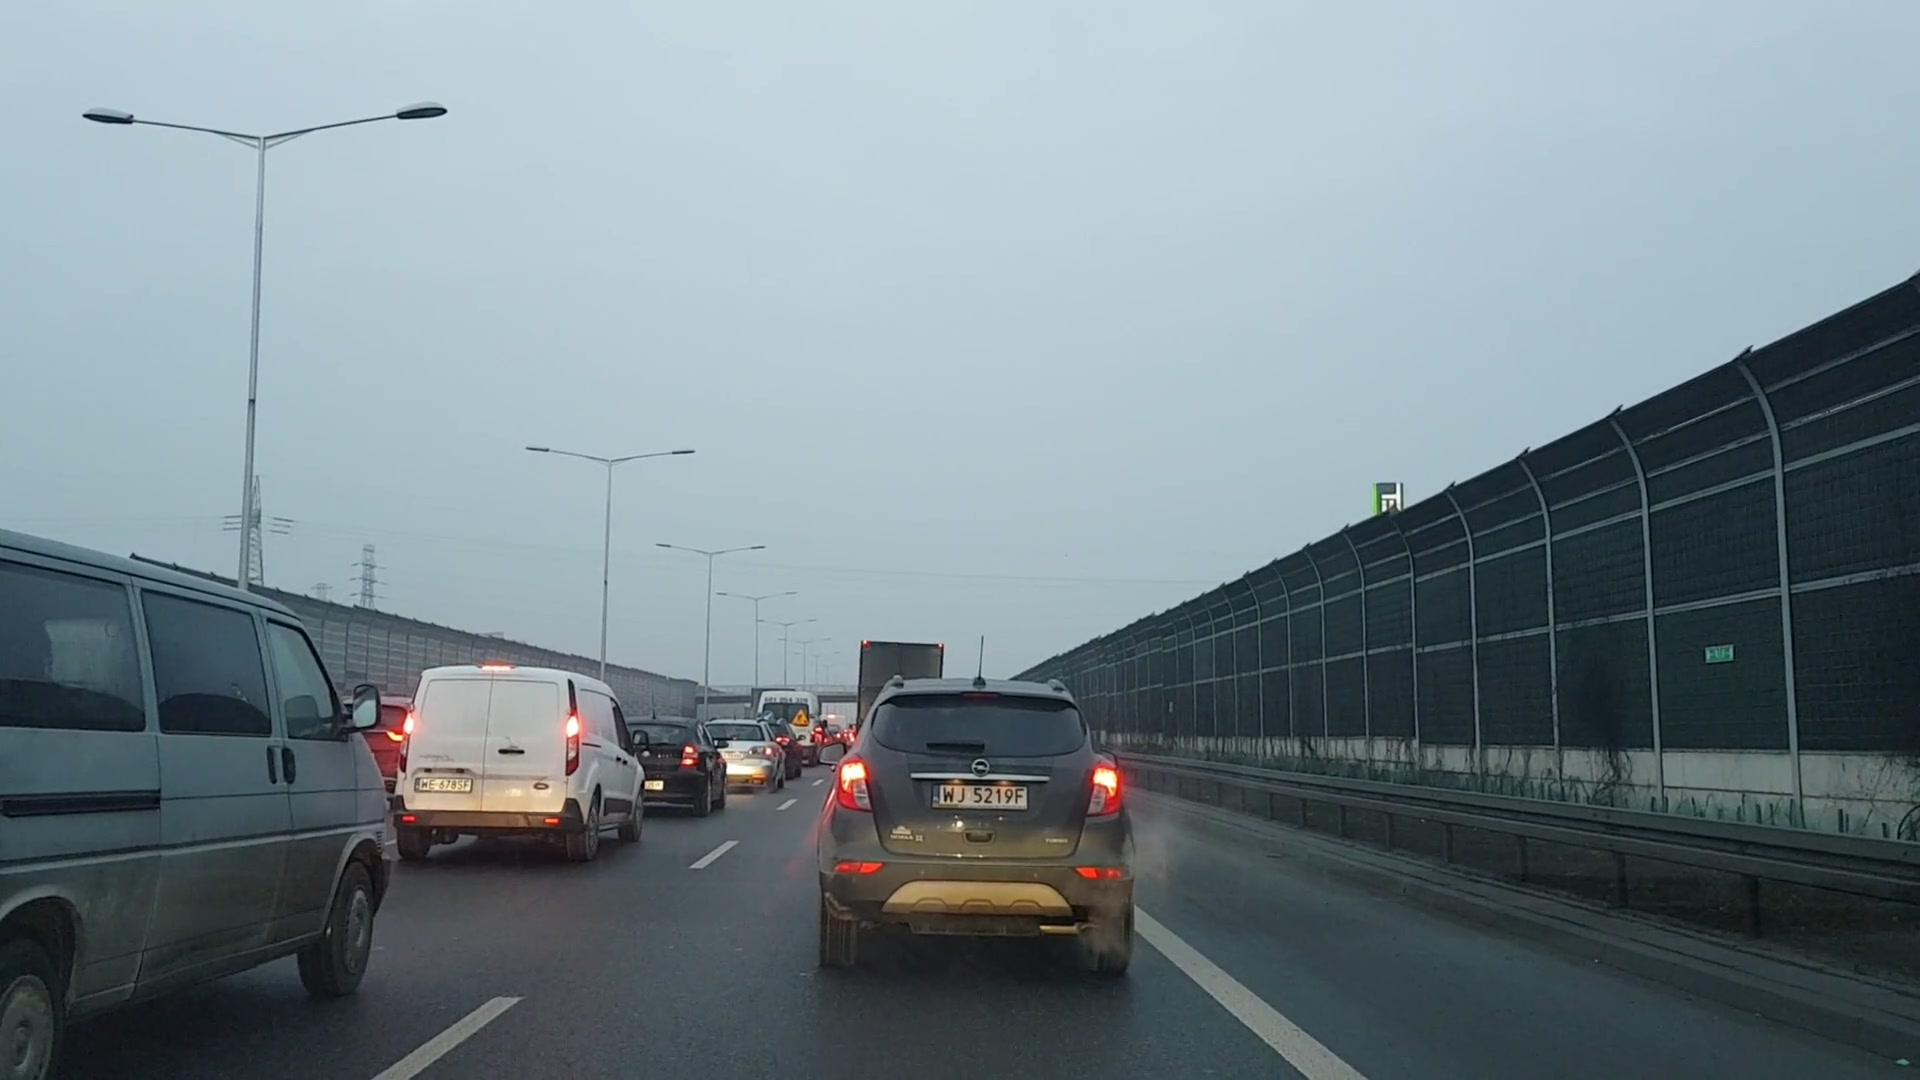car: (3, 524, 407, 1067), (807, 669, 1147, 996), (402, 659, 651, 874), (630, 705, 719, 818), (711, 715, 773, 786)
